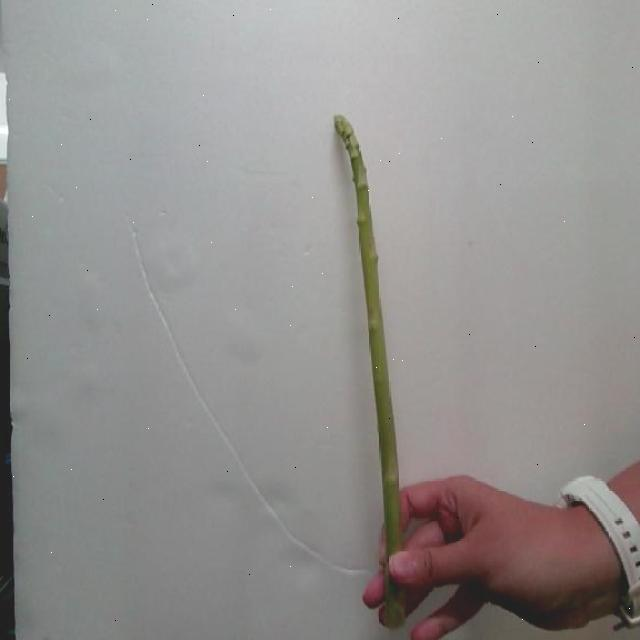aspargus: (335, 117, 406, 569)
